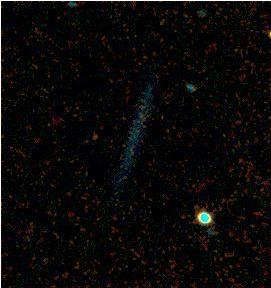star: (77, 121, 107, 151)
